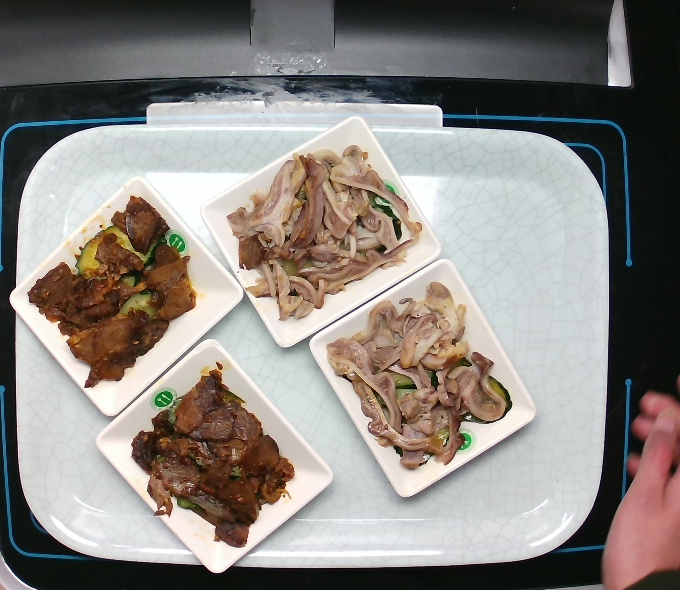wcq-JiangNiuRou: (22, 185, 202, 397), (121, 365, 297, 566)
wcq-ZhuDu: (310, 274, 510, 478), (215, 135, 425, 327)
